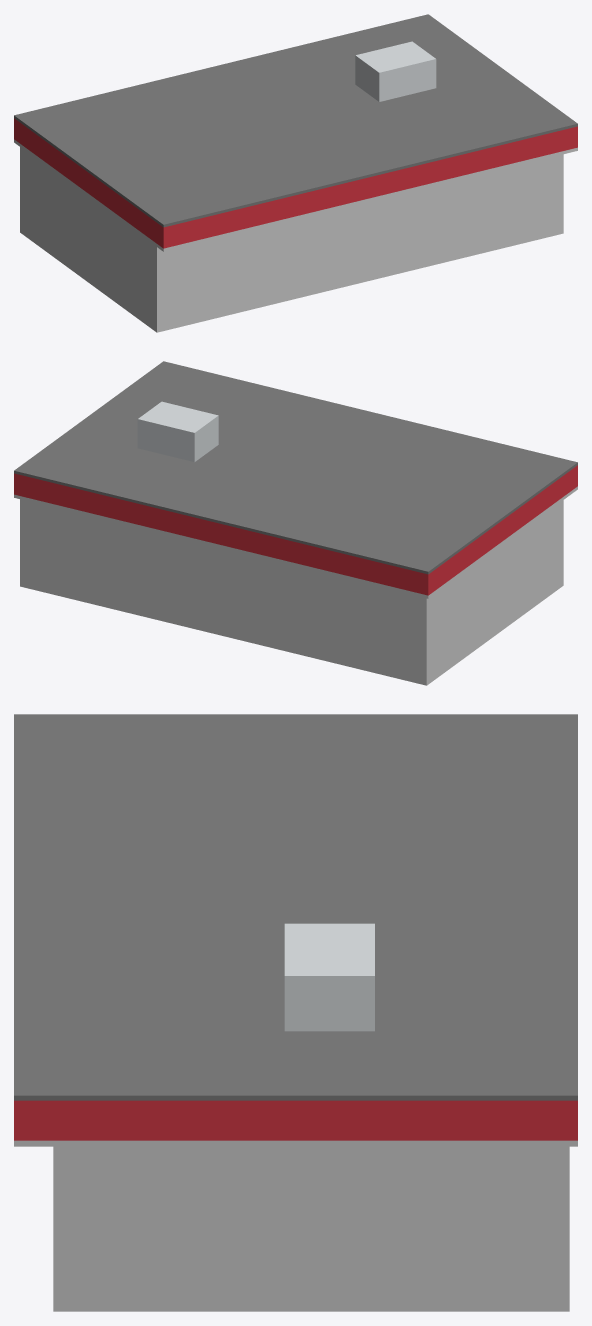
Rendered from site_store_far.fbx.
3 views of the same model, one above another, from view 1: azimuth 30°, elevation 25°; view 2: azimuth 150°, elevation 25°; view 3: azimuth 270°, elevation 25° (orthographic). The views are drawn at different scales.
Parts seen in each view (by area): view 1: a1019/0/site_store_far; view 2: a1019/0/site_store_far; view 3: a1019/0/site_store_far.
Boxes of the visible parts, box(x1,y1,x2,y2) form: a1019/0/site_store_far: box(14, 14, 577, 332); a1019/0/site_store_far: box(14, 361, 577, 685); a1019/0/site_store_far: box(14, 714, 577, 1311).
Bounding box in the file's own units: 16 × 5.38 × 10.
